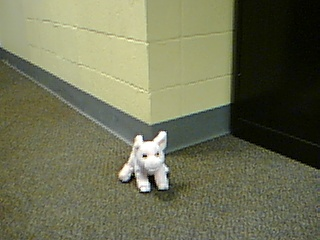piggy: (116, 129, 173, 194)
